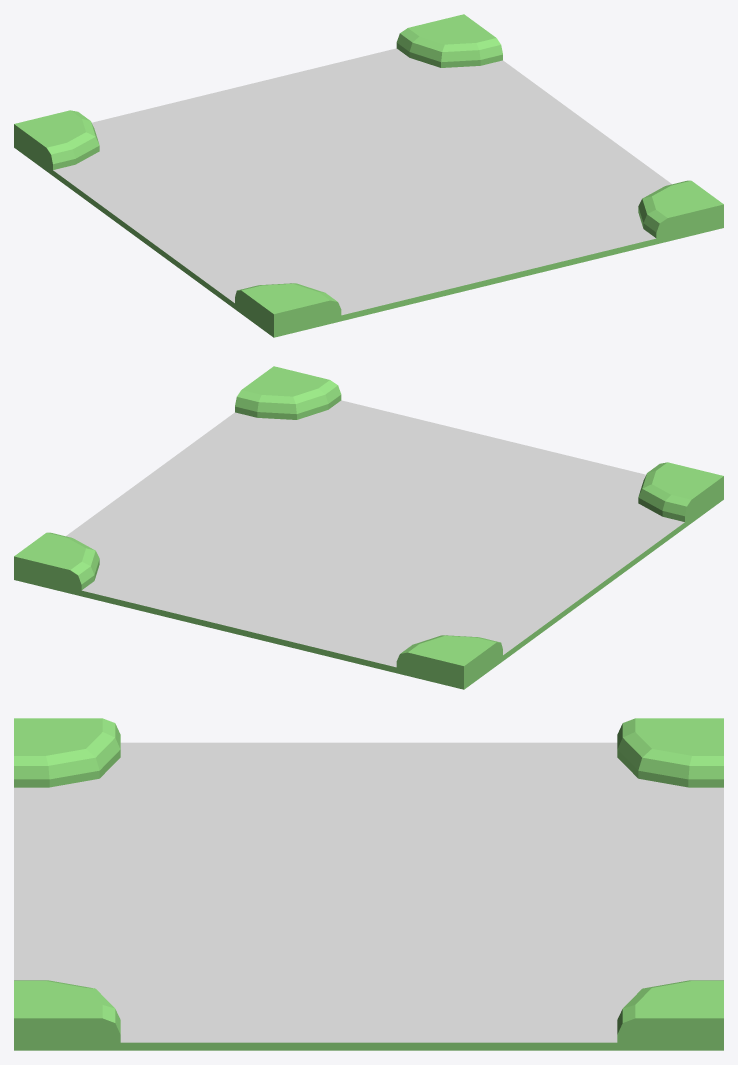
File: Across.fbx
3 views of the same model, one above another, from view 1: azimuth 30°, elevation 25°; view 2: azimuth 150°, elevation 25°; view 3: azimuth 270°, elevation 25° (orthographic). The views are drawn at different scales.
Visible parts, largest first — view 1: 立方体.006; view 2: 立方体.006; view 3: 立方体.006.
Part boxes in pixels (bbox=[...]): 立方体.006: bbox=[14, 14, 723, 337]; 立方体.006: bbox=[14, 366, 723, 689]; 立方体.006: bbox=[14, 718, 723, 1050].
Bounding box in the file's own units: 200 × 10 × 200.
